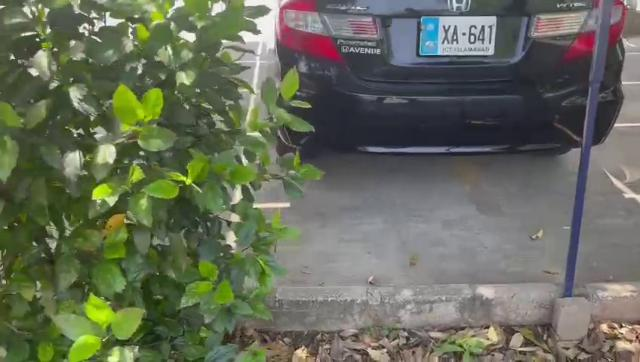plate: (419, 16, 498, 54)
